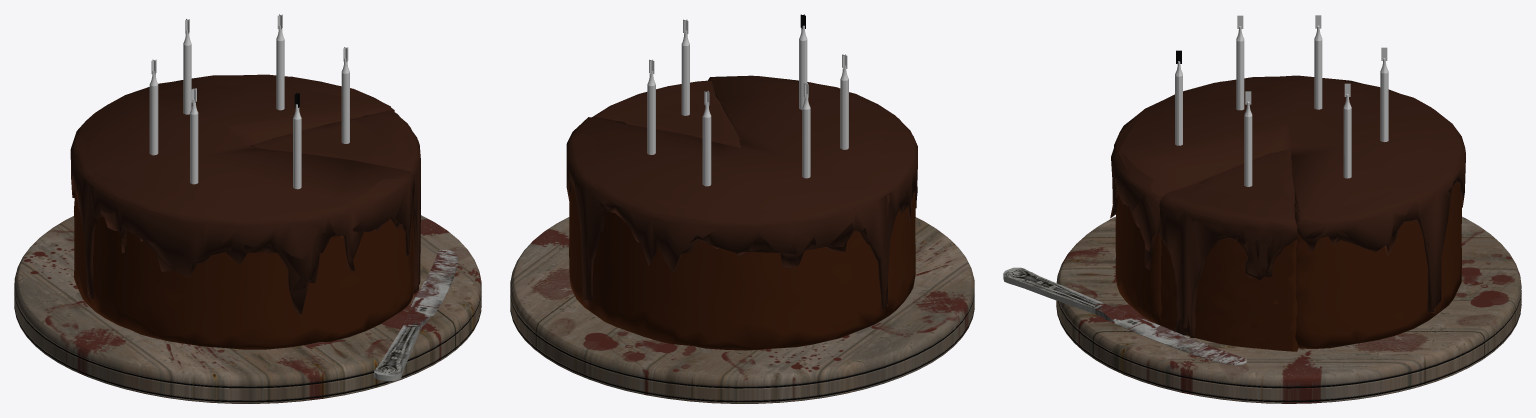
Rendered from ChocolateCake.fbx.
The picture shows the model from 3 angles, left to right: view 1: azimuth 30°, elevation 25°; view 2: azimuth 150°, elevation 25°; view 3: azimuth 270°, elevation 25°; orthographic projection.
Parts seen in each view (by area): view 1: Cake.001_Baked, Platter_Baked, CakeSliceInside, Knife_low_Baked, Candle2, Candle6, Candle1, Candle5, Candle4, Candle3; view 2: Cake.001_Baked, Platter_Baked, CakeSliceInside, Candle3, Candle6, Candle1, Candle5, Candle2, Candle4; view 3: Cake.001_Baked, Platter_Baked, CakeSliceInside, Knife_low_Baked, Candle6, Candle1, Candle5, Candle2, Candle3, Candle4.
Part boxes in pixels (x1,y1,x2,y2): Cake.001_Baked: [70, 74, 415, 349]; Platter_Baked: [14, 215, 481, 403]; CakeSliceInside: [249, 111, 420, 303]; Knife_low_Baked: [374, 250, 457, 381]; Candle2: [149, 71, 158, 155]; Candle6: [341, 58, 349, 143]; Candle1: [190, 99, 198, 184]; Candle5: [276, 25, 284, 110]; Candle4: [293, 104, 301, 189]; Candle3: [183, 30, 191, 114]; Cake.001_Baked: [566, 75, 917, 350]; Platter_Baked: [510, 217, 974, 403]; CakeSliceInside: [592, 80, 741, 148]; Candle3: [702, 102, 711, 186]; Candle6: [681, 30, 689, 115]; Candle1: [840, 65, 848, 149]; Candle5: [647, 71, 655, 154]; Candle2: [802, 94, 810, 178]; Candle4: [799, 25, 807, 109]; Cake.001_Baked: [1110, 75, 1465, 348]; Platter_Baked: [1056, 216, 1521, 403]; CakeSliceInside: [1156, 148, 1298, 351]; Knife_low_Baked: [1003, 267, 1246, 365]; Candle6: [1244, 101, 1252, 186]; Candle1: [1236, 26, 1244, 110]; Candle5: [1343, 94, 1351, 178]; Candle2: [1314, 25, 1322, 109]; Candle3: [1380, 58, 1388, 141]; Candle4: [1175, 61, 1182, 145].
Size of the model in its own units: 683 by 409 by 761.
